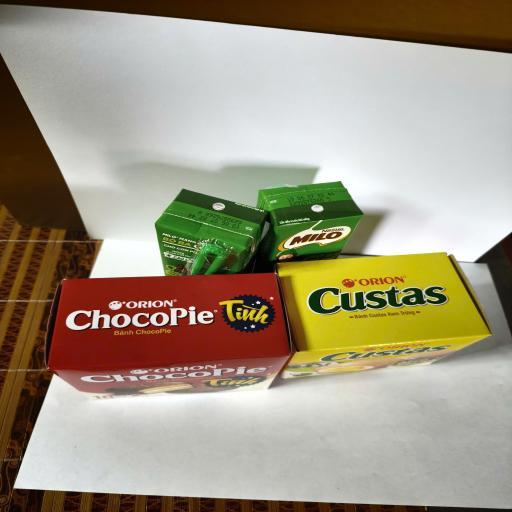chocopie: (46, 272, 293, 400)
custas: (276, 251, 493, 379)
milo: (155, 188, 269, 276), (257, 181, 364, 263)
